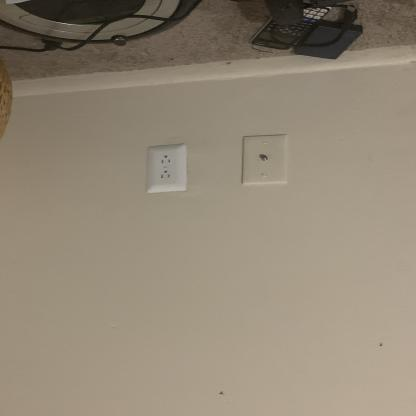OUTLET: (146, 144, 187, 194)
